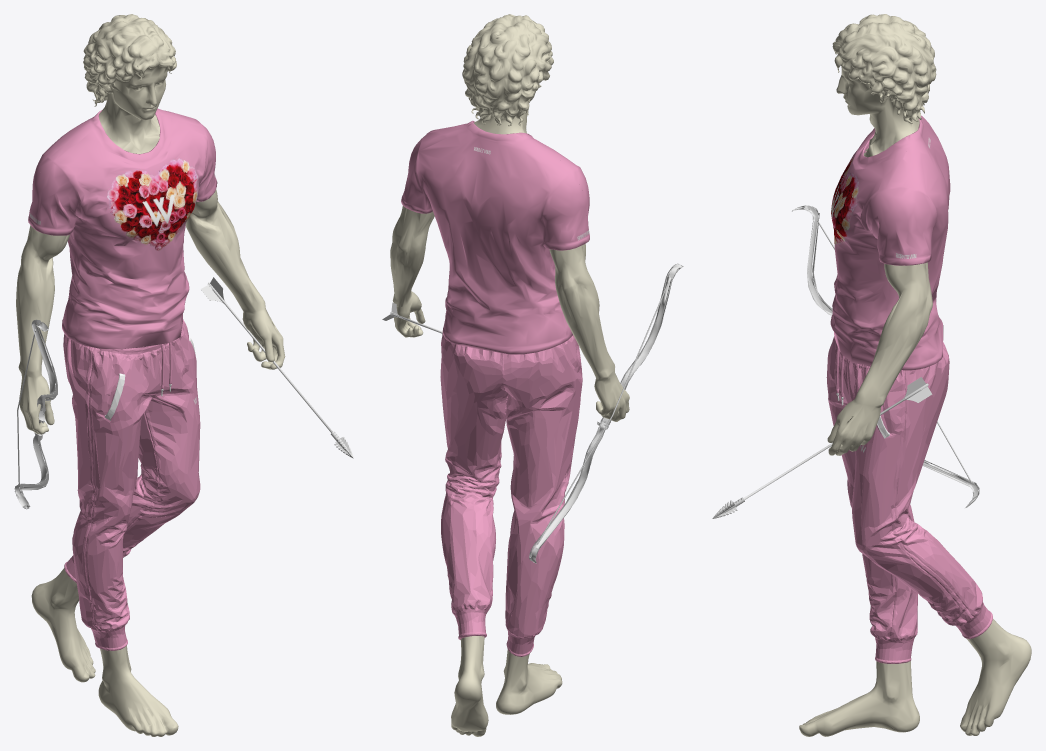
The model's file is heart-pink.glb.
3 renders of one model, left to right at view 1: azimuth 30°, elevation 25°; view 2: azimuth 150°, elevation 25°; view 3: azimuth 270°, elevation 25°, orthographic. The views are drawn at different scales.
Parts seen in each view (by area): view 1: T-Shirt, Trouser, Body, Cylinder, T-Shirt.001, Arrow; view 2: Trouser, T-Shirt, Body, Cylinder, T-Shirt.001, T-Shirt.002; view 3: Body, Trouser, T-Shirt, T-Shirt.002, Cylinder, Arrow.
Part boxes in pixels (x1,y1,x2,y2): T-Shirt: (33,108,215,349); Trouser: (63,320,200,650); Body: (16,14,285,736); Cylinder: (14,319,57,509); T-Shirt.001: (28,179,66,235); Arrow: (200,277,353,458); Trouser: (440,334,582,656); T-Shirt: (409,120,588,354); Body: (390,14,629,736); Cylinder: (529,263,683,563); T-Shirt.001: (550,191,589,250); T-Shirt.002: (401,163,423,213); Body: (799,14,1031,736); Trouser: (826,336,992,663); T-Shirt: (830,115,950,370); T-Shirt.002: (868,216,936,265); Cylinder: (792,205,979,508); Arrow: (712,377,932,518).
Bounding box in the file's own units: 0.7091 × 1.71 × 0.6899.
Materials: 8 (6 with a texture image).
